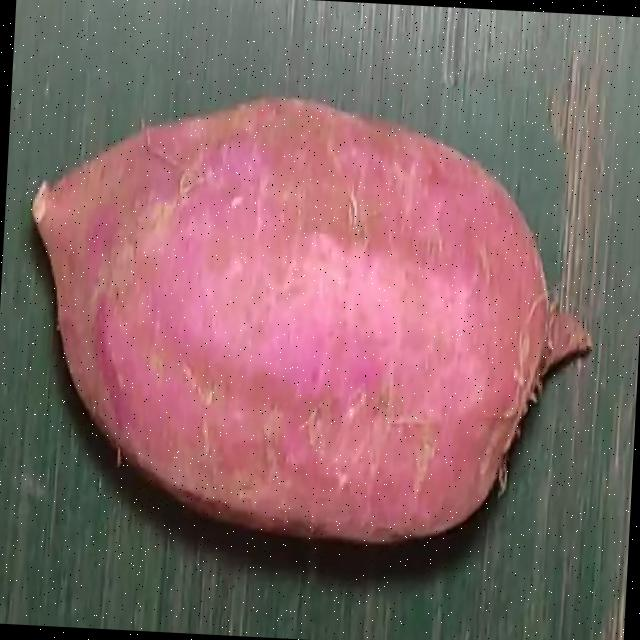Sweet Potato: (33, 96, 591, 543)
